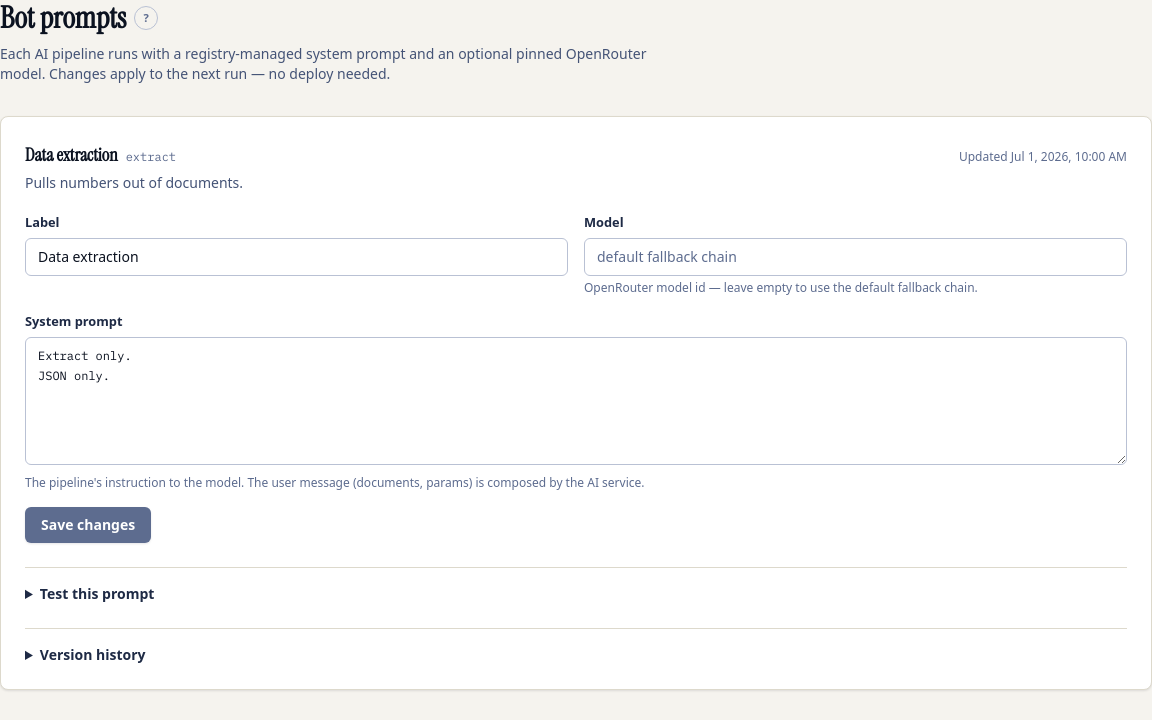
it: BotPromptsPage — version history › reports a history that will not load instead of spinning
Click the heading "Version history" at {"x": 93, "y": 655}, box [40, 645, 146, 664]
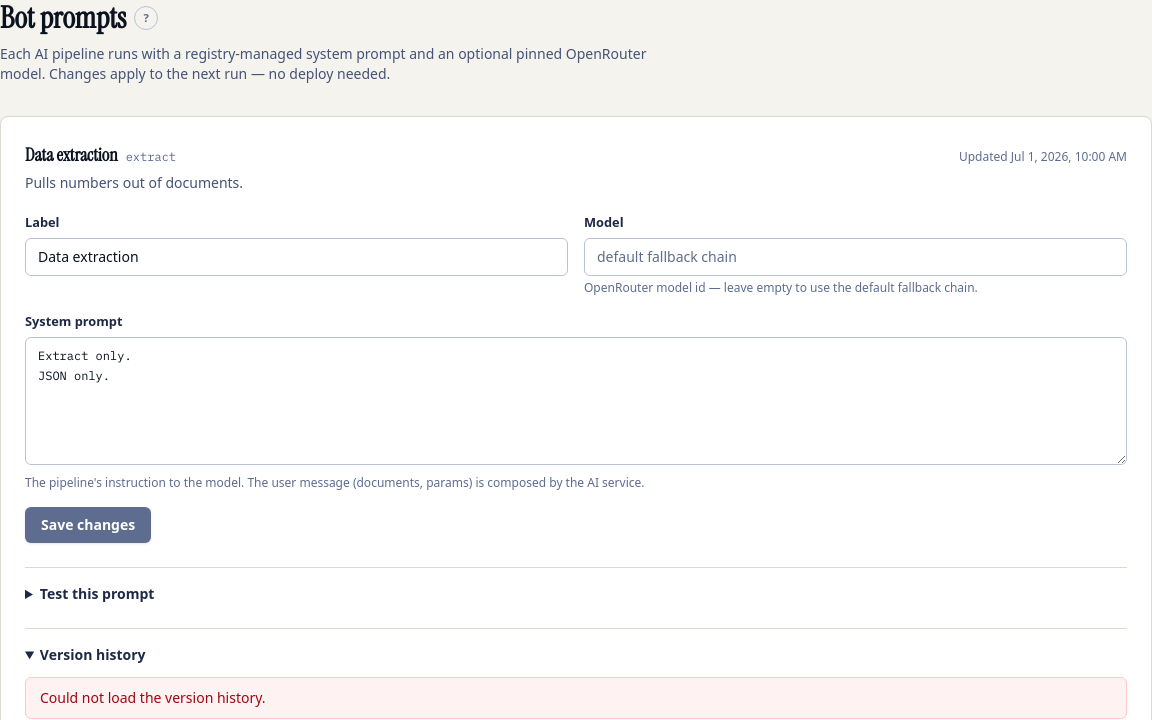
Expected: the text "Could not load the version history." is shown, [25, 677, 1127, 719]
